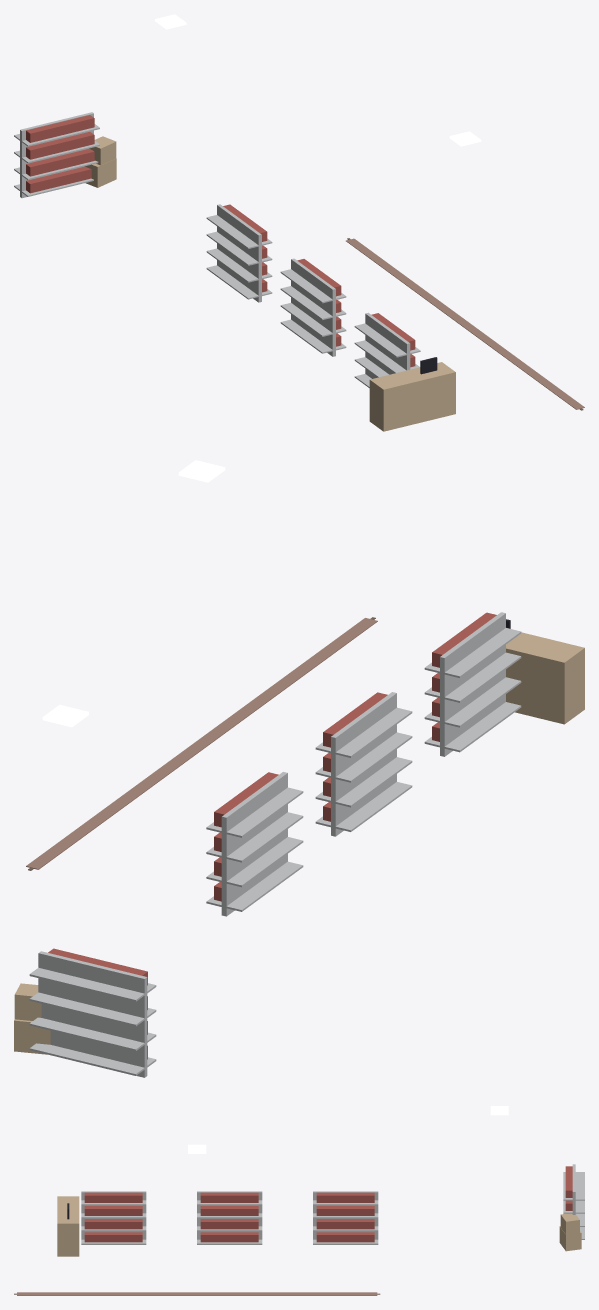
The model's file is fine-s0.glb.
The picture shows the model from 3 angles, top to bottom: view 1: azimuth 30°, elevation 25°; view 2: azimuth 150°, elevation 25°; view 3: azimuth 270°, elevation 25°; orthographic projection. The views are drawn at different scales.
Visible parts, largest first — view 1: shelving.000, shop-counter.000, shelf.000, shelf.001, shelf.002, soft-s0, cardboard-box.000; view 2: shelving.000, shelf.000, shelf.002, shelf.001, shop-counter.000, soft-s0, cardboard-box.000; view 3: shelf.000, shelf.001, shelf.002, soft-s0, shop-counter.000, shelving.000, cardboard-box.000.
Boxes of the visible parts, bbox=[...] form: shelving.000: bbox=[14, 112, 99, 198]; shop-counter.000: bbox=[369, 357, 455, 431]; shelf.000: bbox=[206, 204, 272, 302]; shelf.001: bbox=[280, 258, 346, 356]; shelf.002: bbox=[354, 312, 420, 387]; soft-s0: bbox=[346, 238, 584, 410]; cardboard-box.000: bbox=[85, 136, 116, 187]; shelving.000: bbox=[29, 948, 156, 1077]; shelf.000: bbox=[206, 772, 303, 916]; shelf.002: bbox=[424, 612, 521, 756]; shelf.001: bbox=[315, 692, 412, 836]; shop-counter.000: bbox=[506, 619, 584, 724]; soft-s0: bbox=[26, 617, 377, 870]; cardboard-box.000: bbox=[14, 983, 50, 1054]; shelf.000: bbox=[313, 1191, 378, 1244]; shelf.001: bbox=[197, 1191, 262, 1244]; shelf.002: bbox=[81, 1191, 146, 1244]; soft-s0: bbox=[14, 1292, 380, 1295]; shop-counter.000: bbox=[57, 1196, 79, 1256]; shelving.000: bbox=[563, 1164, 584, 1239]; cardboard-box.000: bbox=[559, 1213, 581, 1251].
Size of the model in its own units: 5.31 by 4.44 by 15.77.
